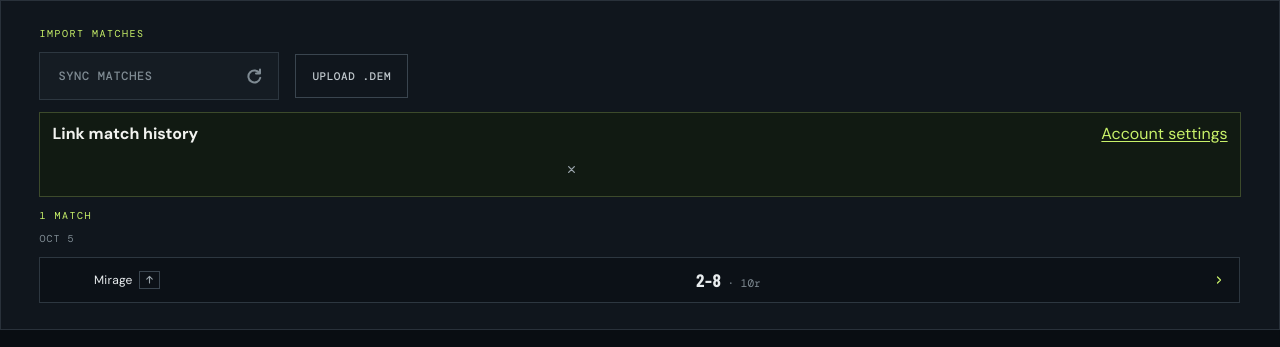
first-run onboarding (signed in) › matches but no linked history: a dismissible tip that stays dismissed
This screenshot has width=1280, height=347.
Expected: the element named "Tip" shows "Link match history", [52,123,198,144]
Click the button named "Dismiss tip".
click(572, 170)  # box [52,154,1091,186]
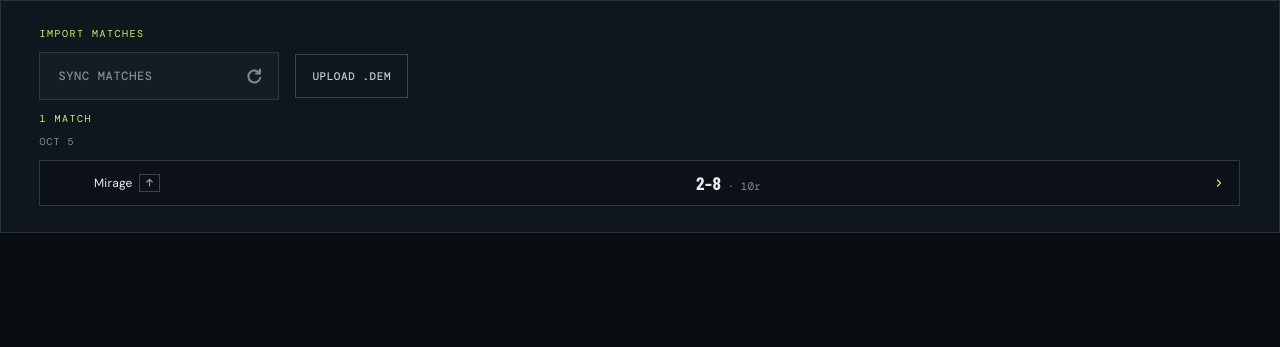
Now the button "Tip" is gone
